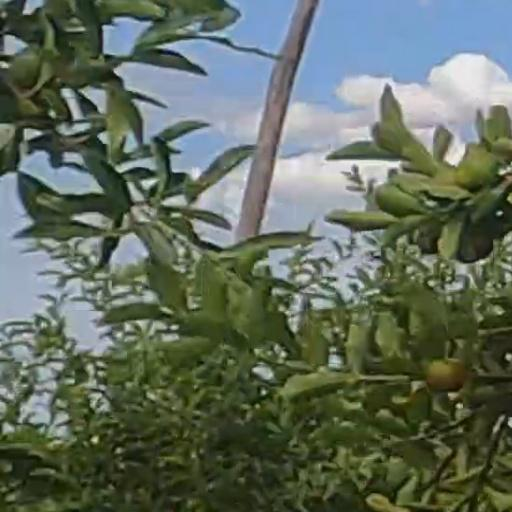acerola: (426, 357, 466, 391)
